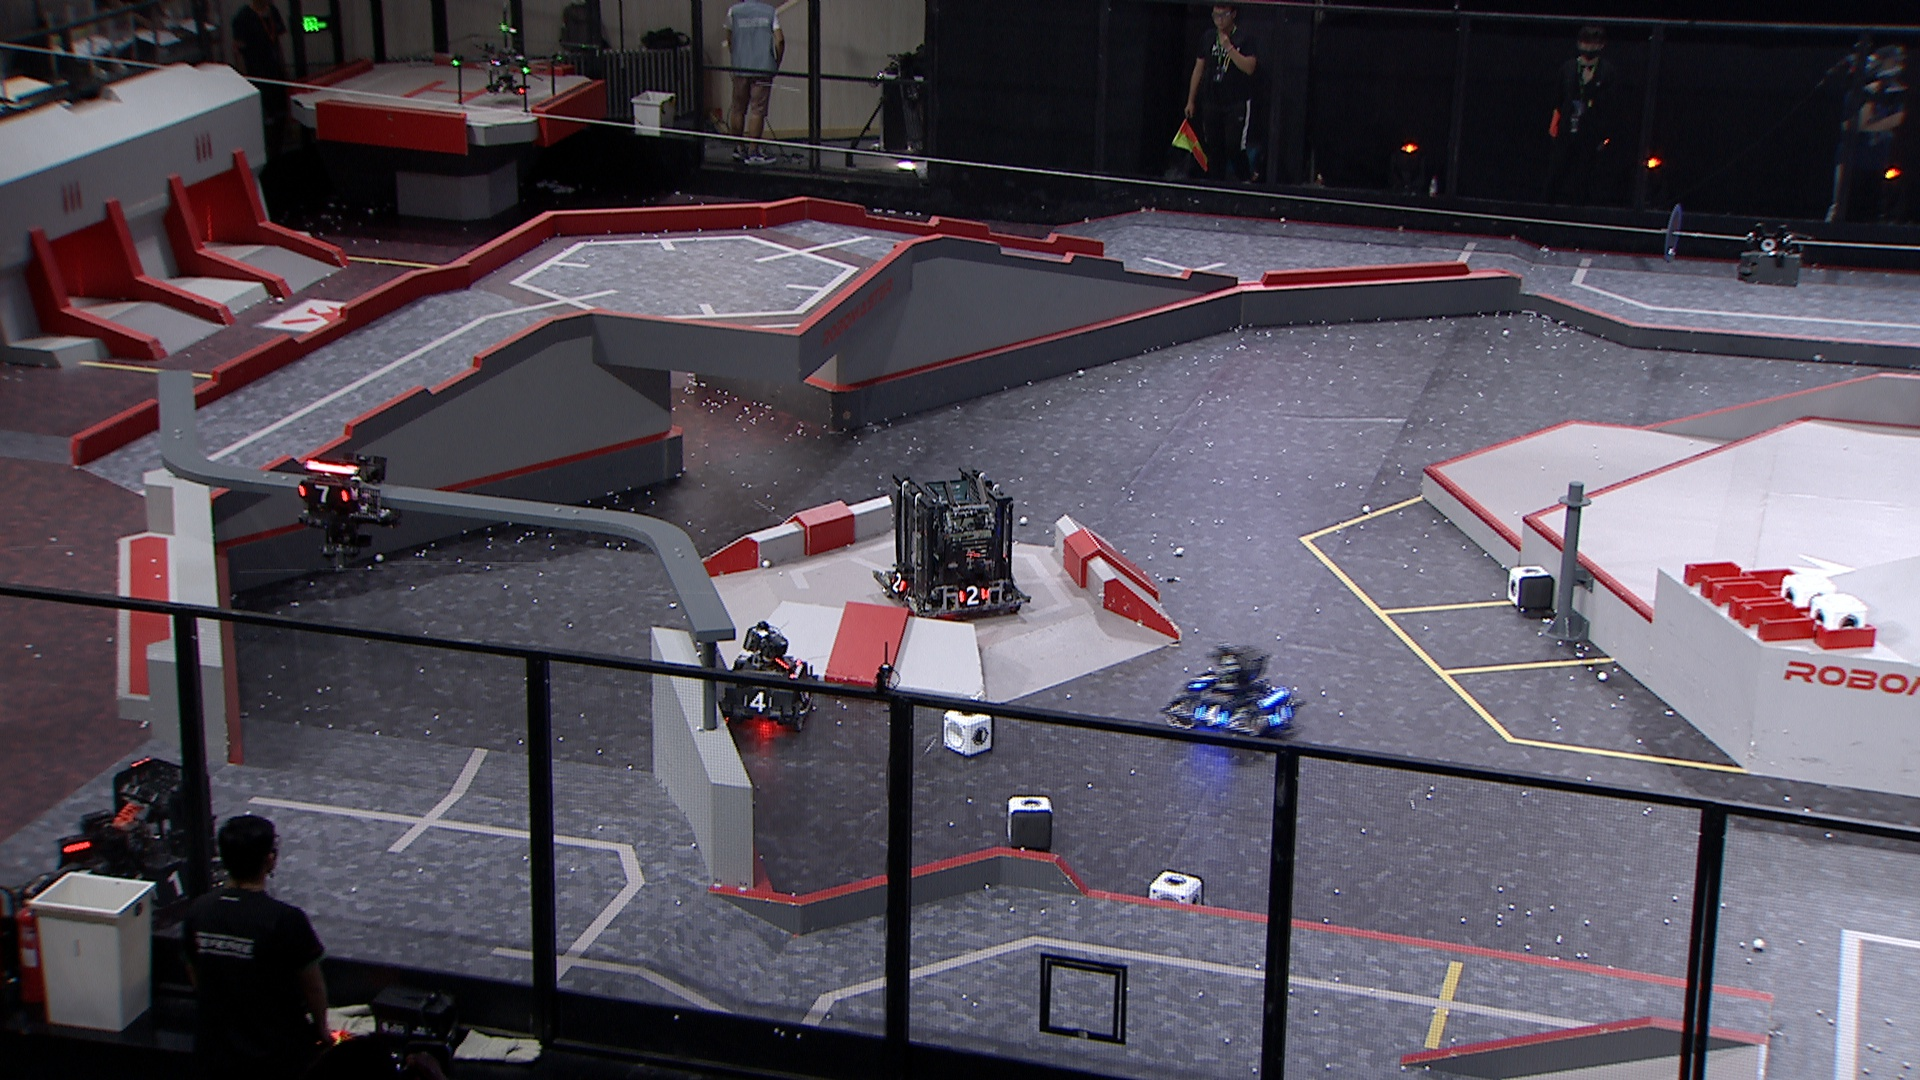armor: (299, 481, 352, 506), (149, 870, 187, 902), (741, 690, 775, 716), (1195, 705, 1230, 731), (1187, 669, 1218, 694), (1269, 703, 1294, 731), (957, 585, 989, 605), (891, 570, 909, 593)
car: (26, 756, 231, 924), (874, 469, 1031, 622), (1162, 647, 1307, 756), (713, 621, 818, 735)
watcher: (295, 454, 396, 572)
